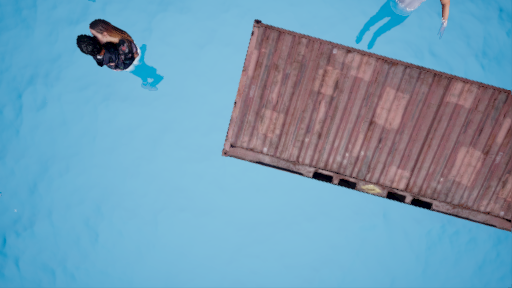person: (75, 15, 166, 88)
